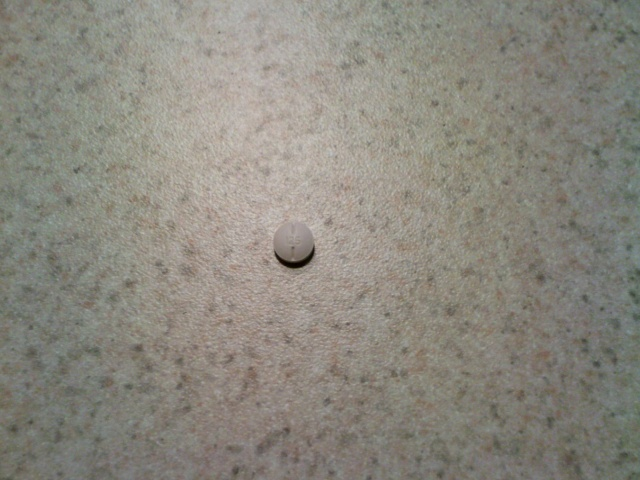1: (283, 234, 288, 245)
2: (288, 234, 294, 245)
5: (294, 236, 298, 245)
|: (287, 219, 298, 267)
